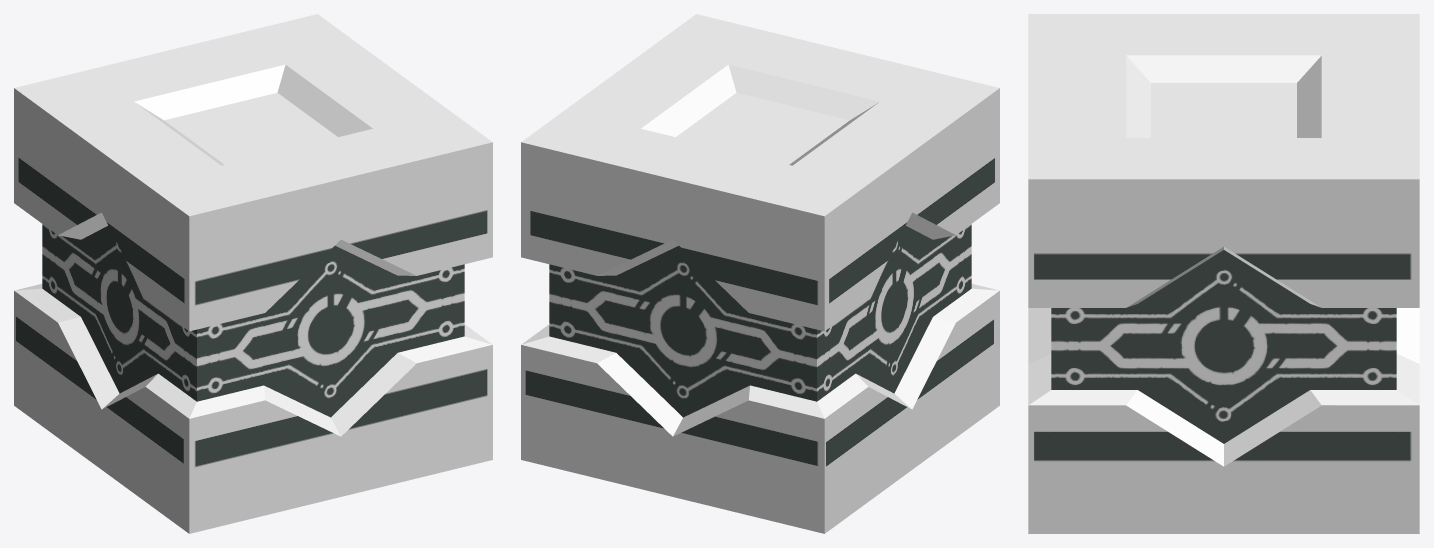
Rendered from BasicBlock_LvL_02.fbx.
3 views of the same model, side by side, from view 1: azimuth 30°, elevation 25°; view 2: azimuth 150°, elevation 25°; view 3: azimuth 270°, elevation 25° (orthographic). The views are drawn at different scales.
Parts seen in each view (by area): view 1: polySurface2; view 2: polySurface2; view 3: polySurface2.
Part boxes in pixels (x1,y1,x2,y2): polySurface2: [14, 14, 492, 533]; polySurface2: [521, 14, 999, 533]; polySurface2: [1028, 14, 1419, 533].
Size of the model in its own units: 1 by 1 by 1.
